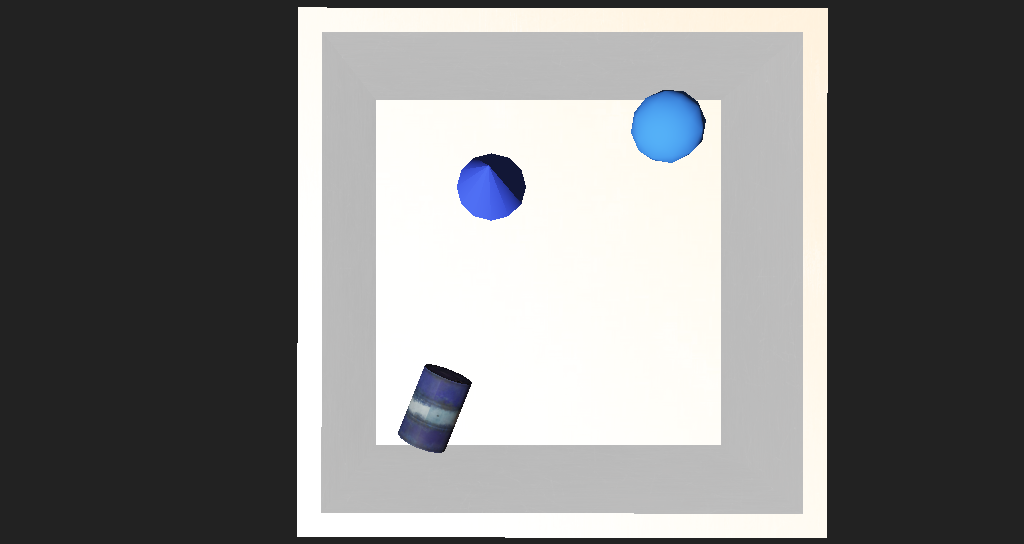cone: (371, 324, 438, 382)
cylinder: (418, 184, 485, 236)
sphere: (573, 160, 640, 203)
